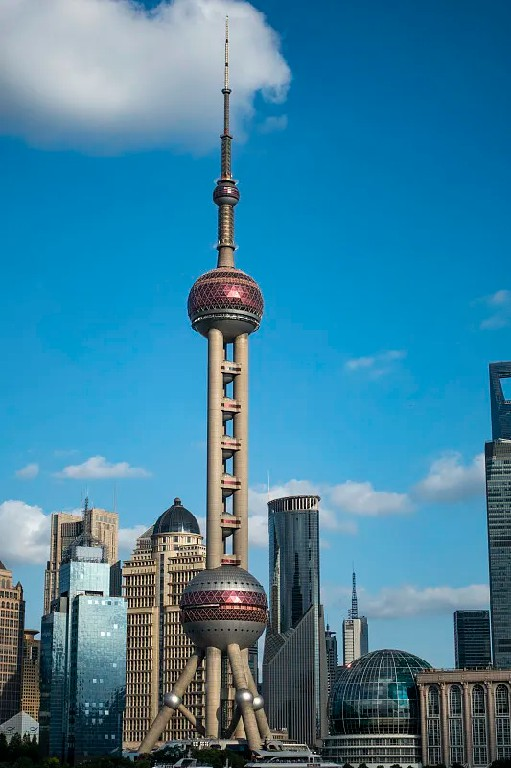Oriental: (138, 14, 274, 752)
